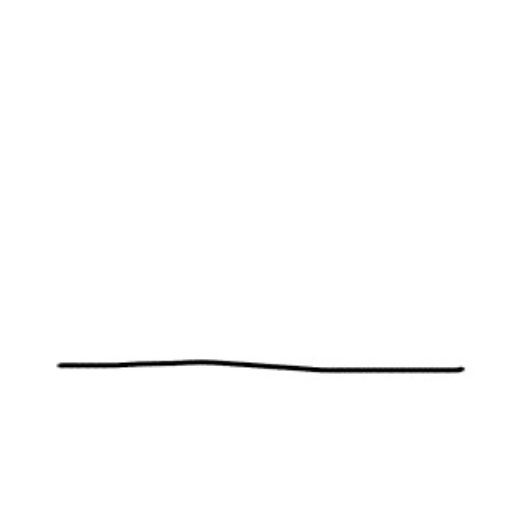line: (49, 354, 471, 387)
